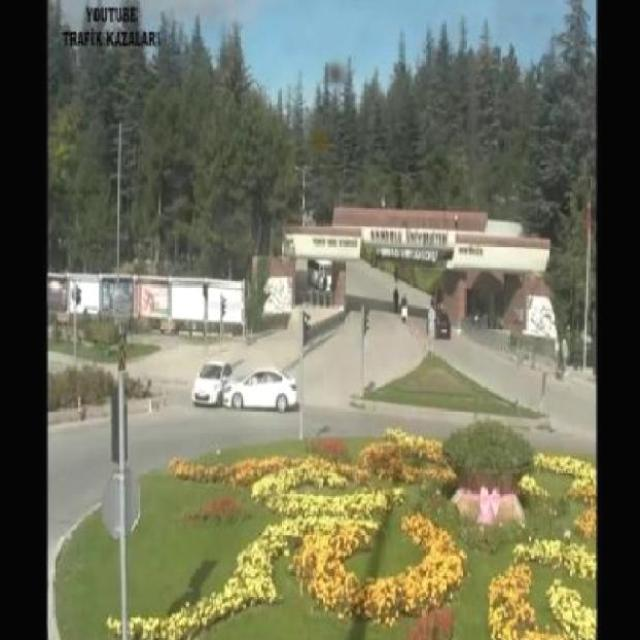accident: (193, 354, 304, 426)
